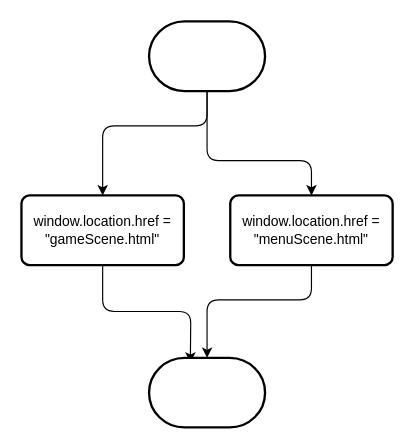
This 413x448 diagram has some shape labels left out. The centre of each missing label's shape, as x and y in pixels:
start: point 206,56
stop: point 206,392
